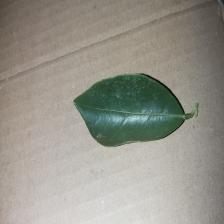healthy: (73, 70, 186, 150)
